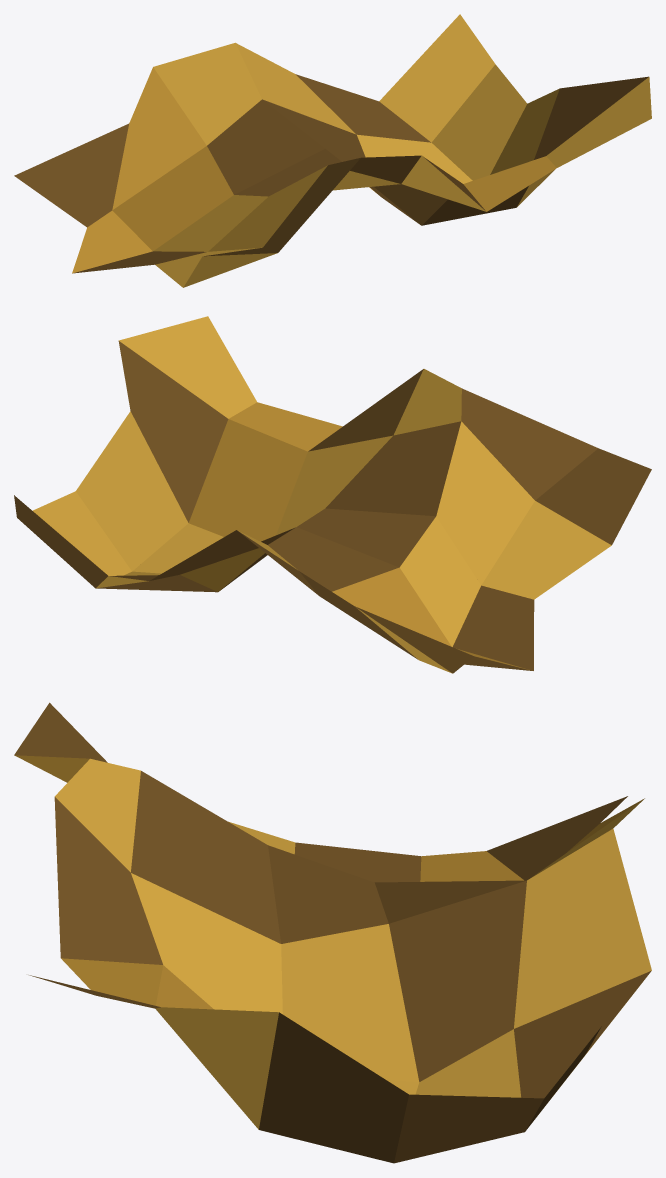
Rendered from deb-mli-01.obj.
3 renders of one model, top to bottom at view 1: azimuth 30°, elevation 25°; view 2: azimuth 150°, elevation 25°; view 3: azimuth 270°, elevation 25°, orthographic. The views are drawn at different scales.
Visible parts, largest first — view 1: deb-mli-01; view 2: deb-mli-01; view 3: deb-mli-01.
Boxes of the visible parts, x1,y1,x2,y2 form: deb-mli-01: [14, 14, 651, 287]; deb-mli-01: [14, 316, 651, 673]; deb-mli-01: [14, 702, 651, 1163].
Size of the model in its own units: 0.0845 by 0.0262 by 0.0628.
